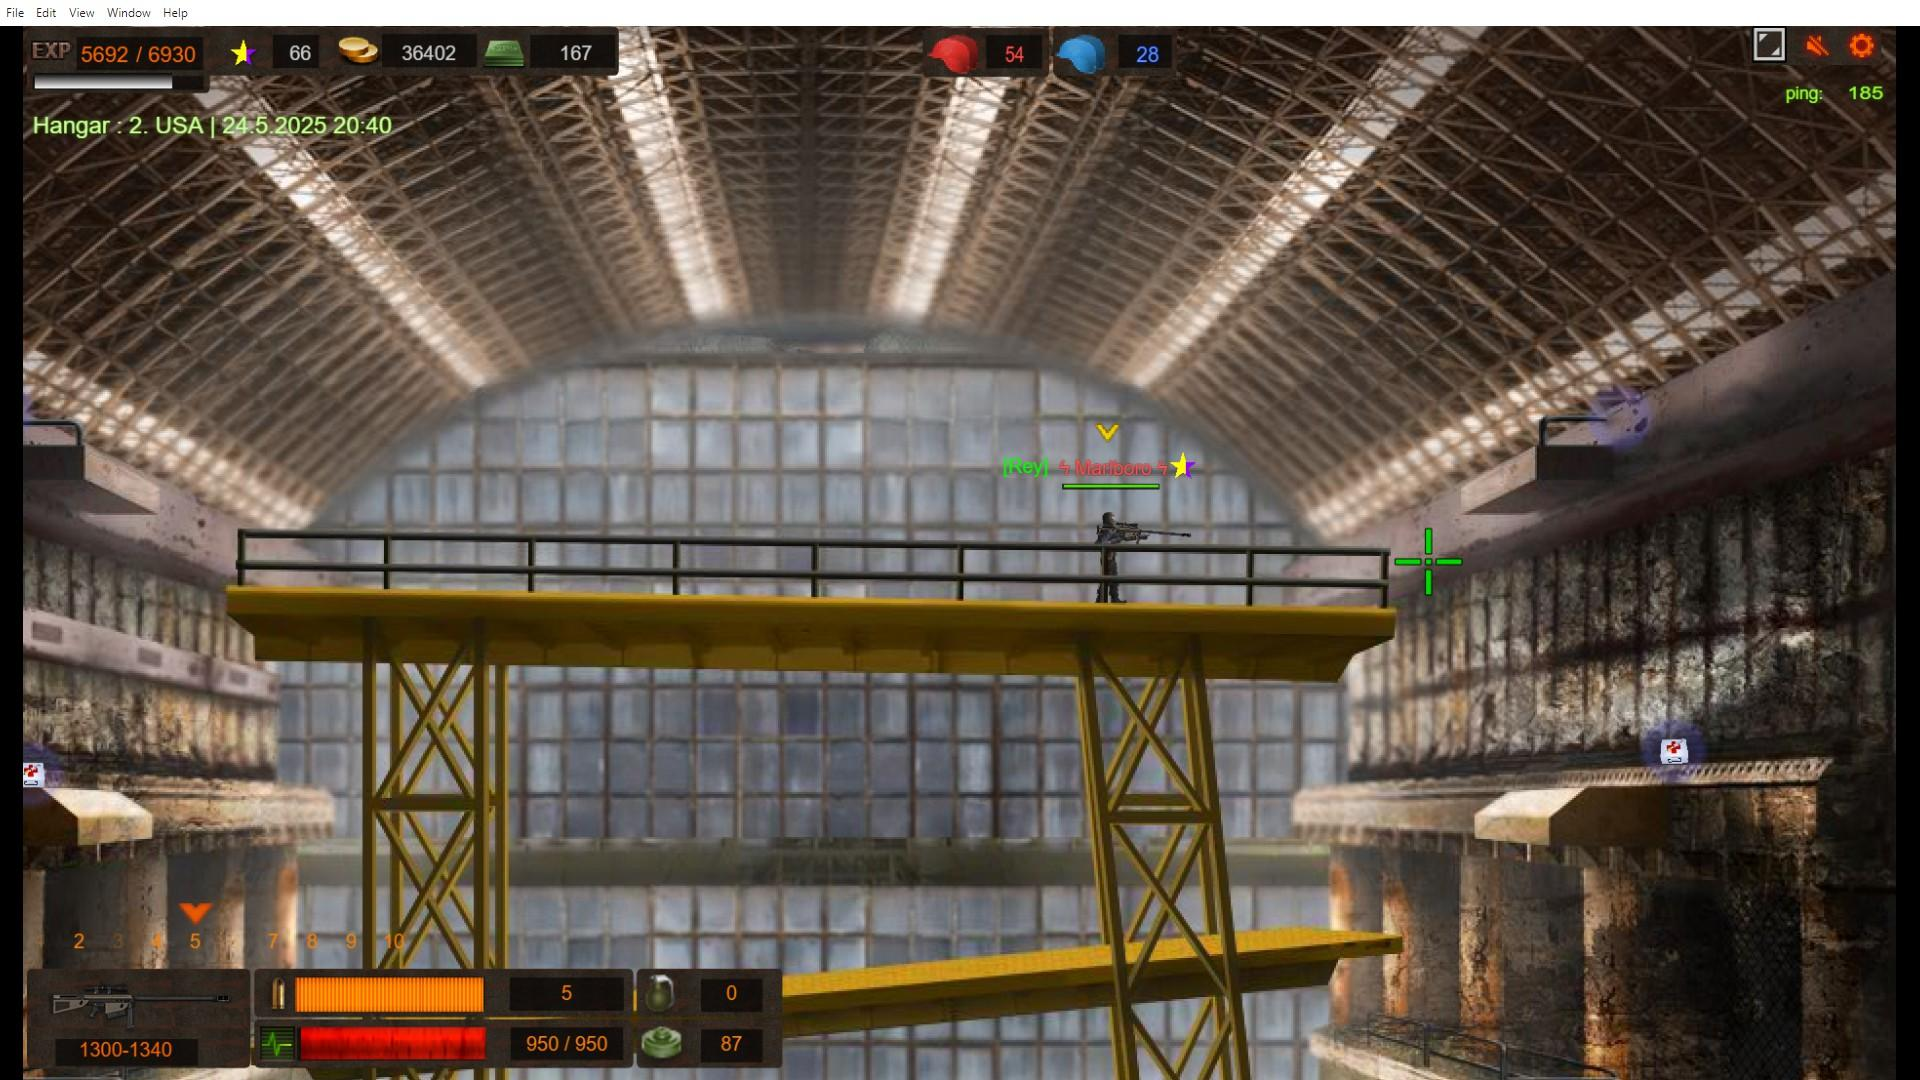enemy: (1096, 510, 1127, 607)
